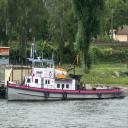tugboat: (7, 45, 127, 107)
